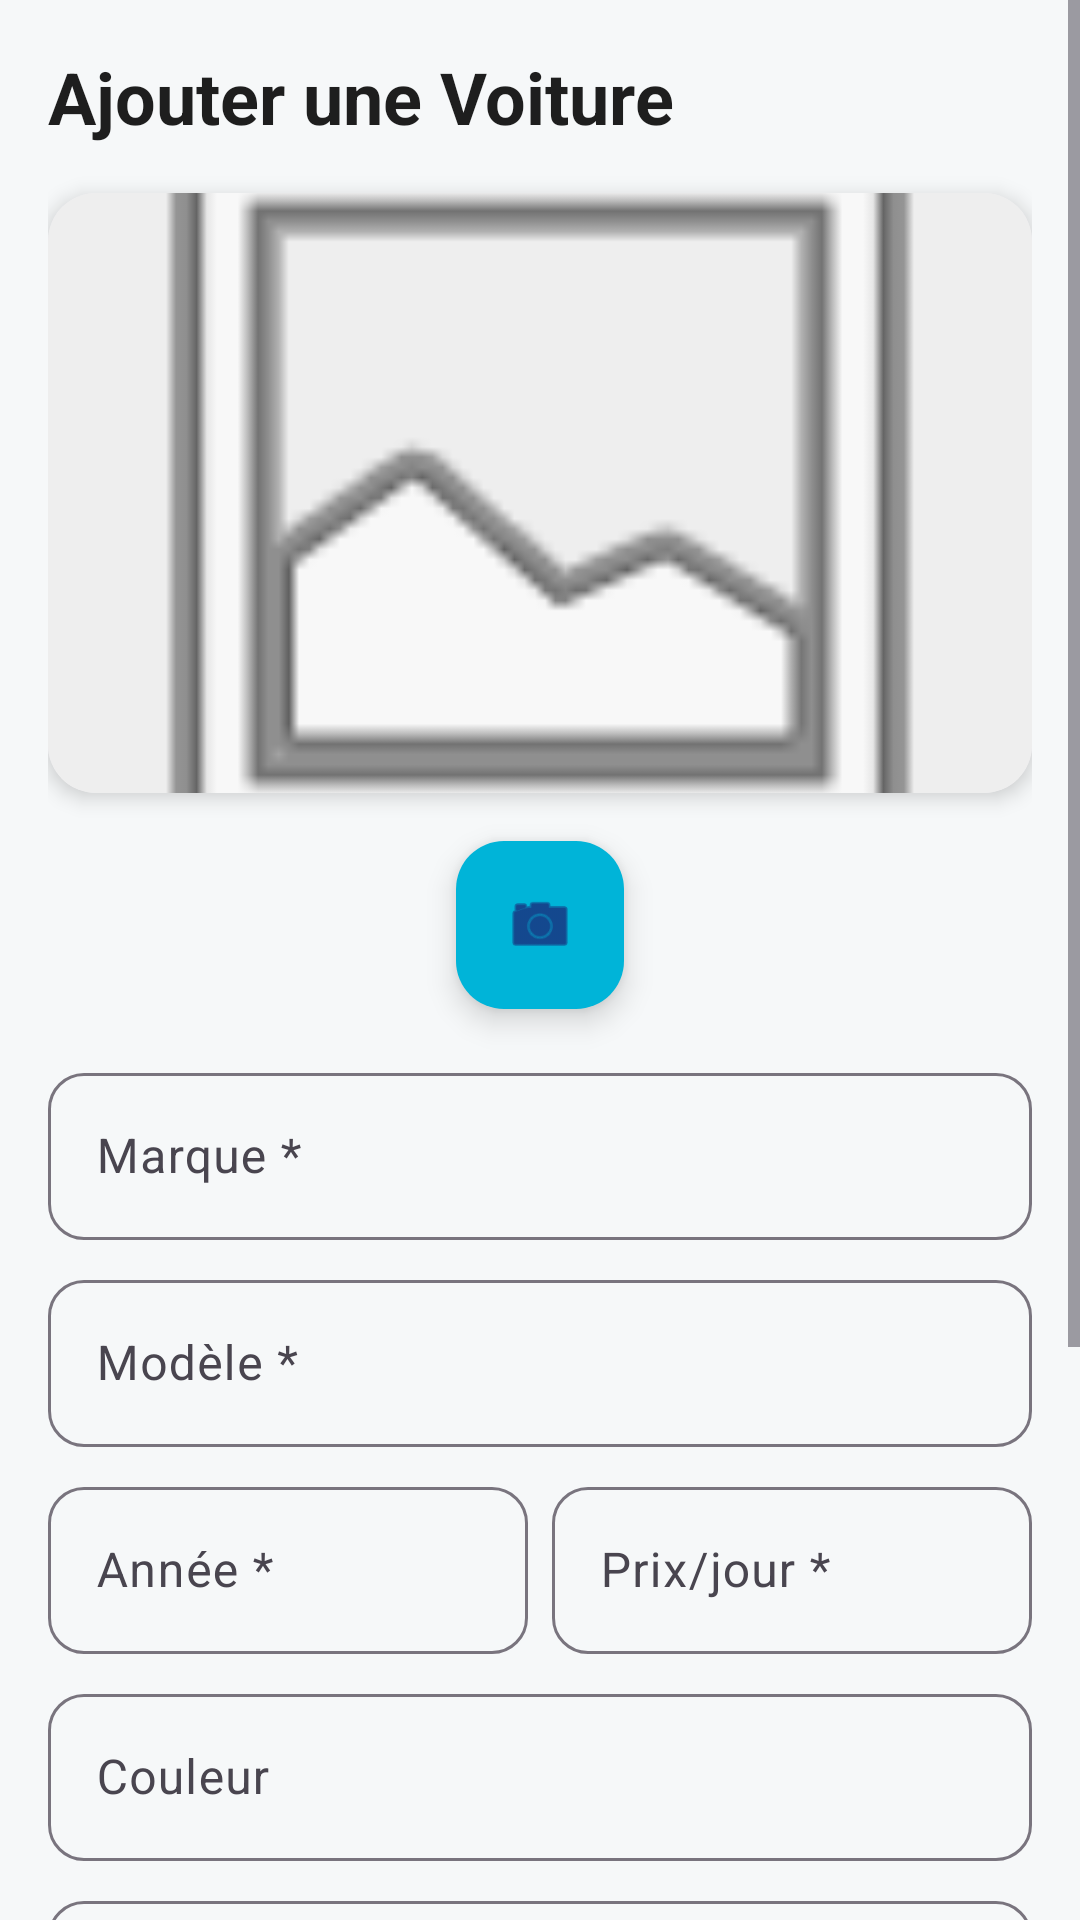

Screen size 1080 × 1920. Icon name, then its box in pixels as rect(x1, y1, x2, y2):
camera: rect(456, 841, 624, 1009)
